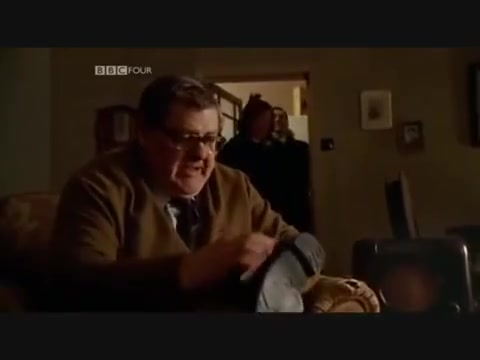Frotter: (189, 231, 276, 278)
